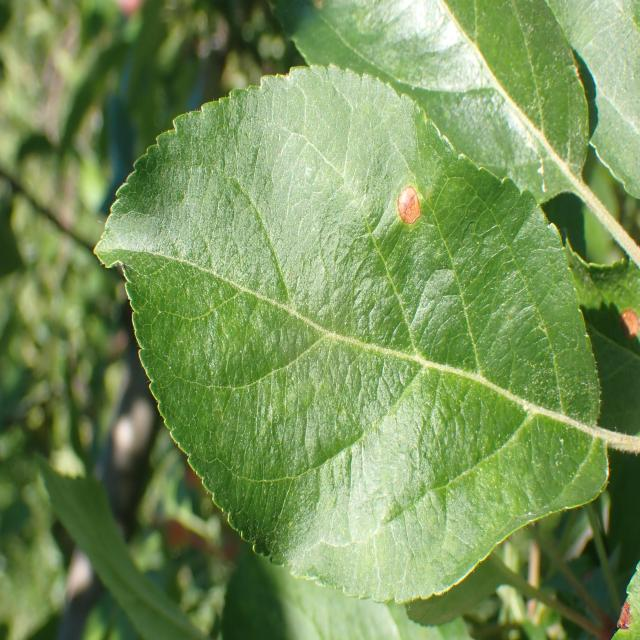Black Rot: (376, 174, 424, 231)
